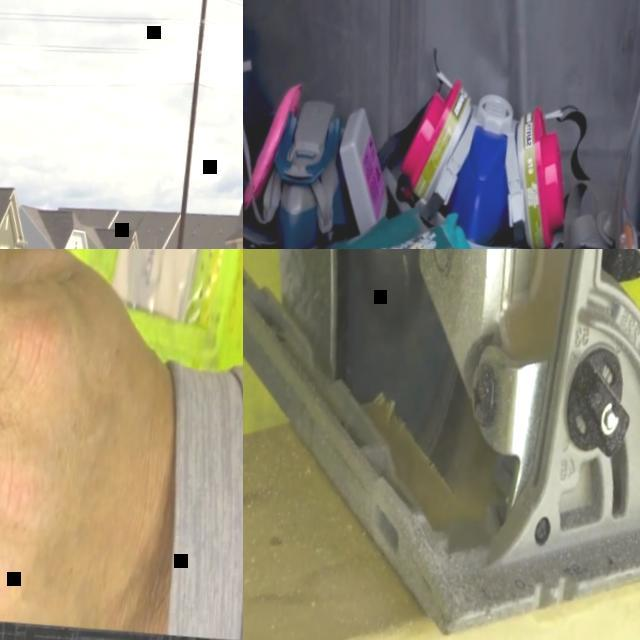vest: (0, 249, 243, 378)
